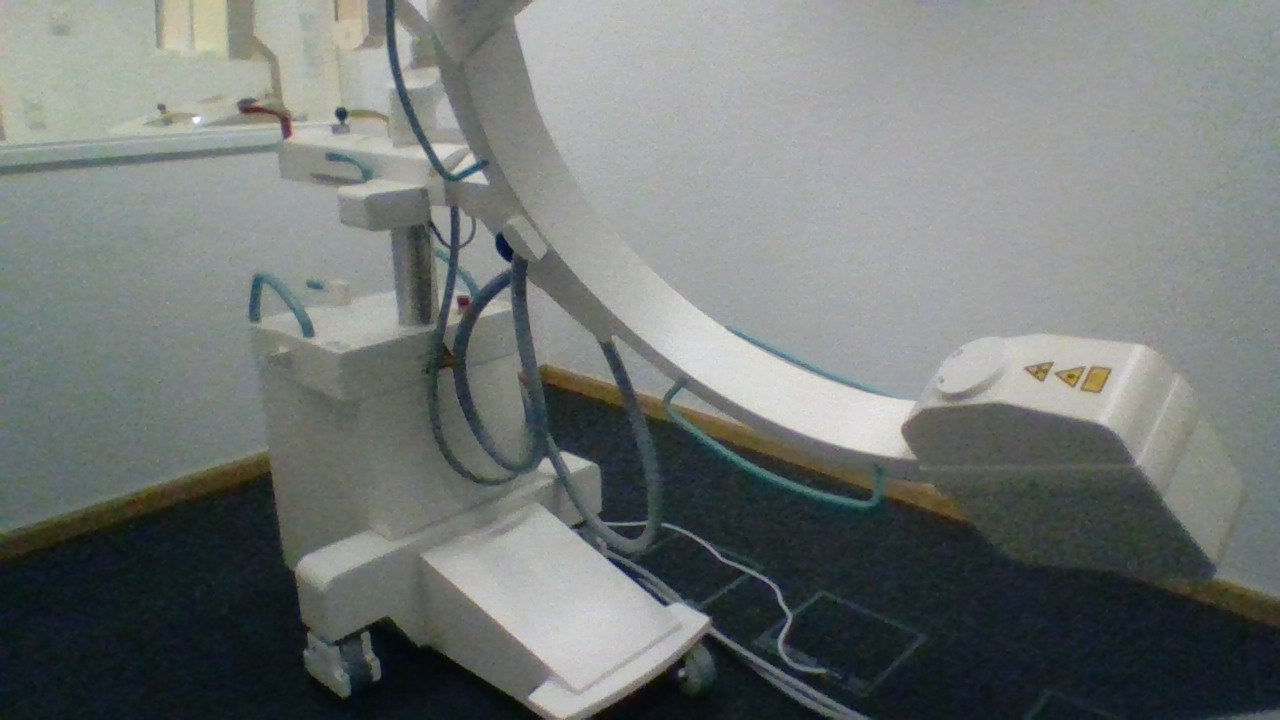carmBACK: (302, 275, 351, 306)
carmDOWN: (901, 333, 1181, 469)
carmLOCK: (494, 230, 527, 265)
